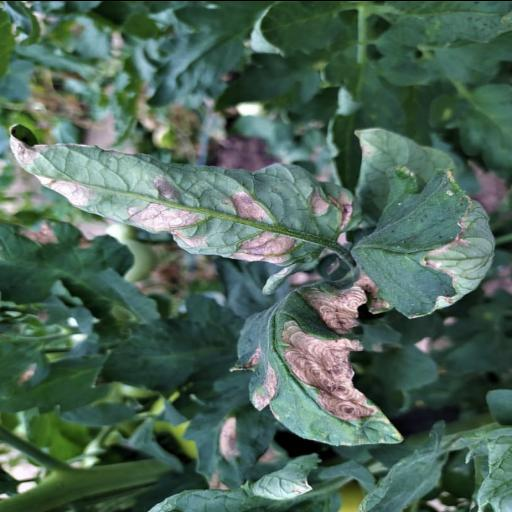disease_tomato: (11, 136, 345, 262), (230, 308, 404, 446)
